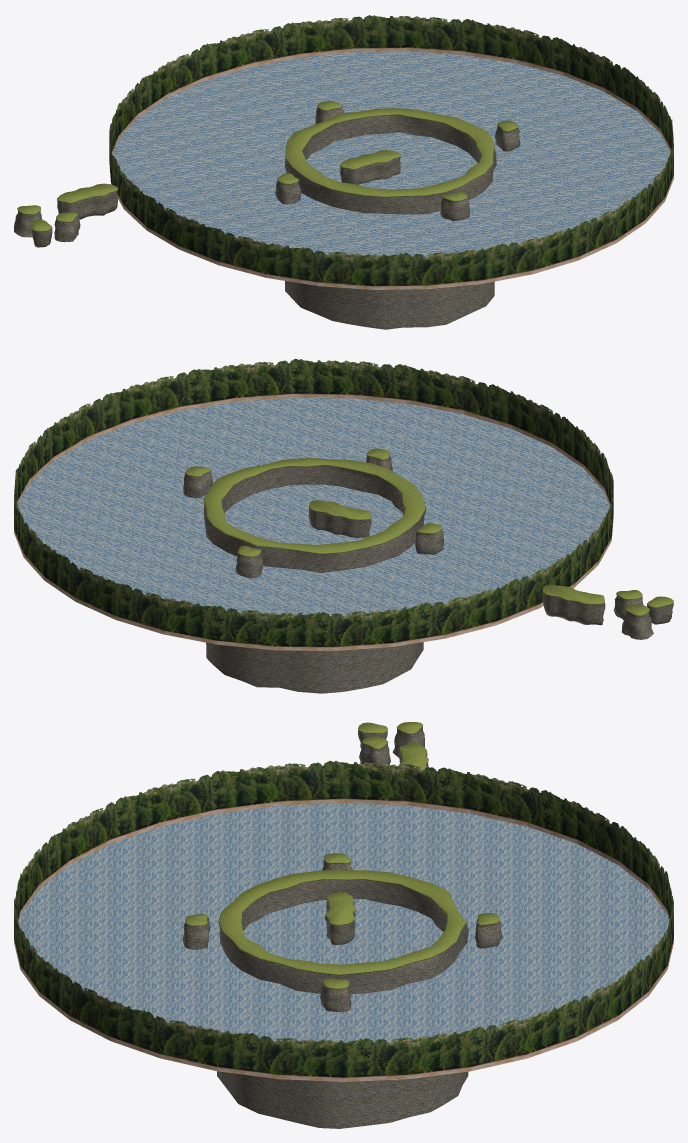
File: wald_4.fbx
3 renders of one model, top to bottom at view 1: azimuth 30°, elevation 25°; view 2: azimuth 150°, elevation 25°; view 3: azimuth 270°, elevation 25°, orthographic. The views are drawn at different scales.
Parts seen in each view (by area): view 1: Water, baumwald, Circle, Grassblock4.001, Grassblock4, Grassblock3.003, Grassblock3, Grassblock3.001, Grassblock3.002, Grassblock1, GrassBlock2; view 2: Water, baumwald, Circle, Grassblock4, Grassblock4.001, Grassblock1, Grassblock3.002, Grassblock3.001, Grassblock3.004, GrassBlock2, Grassblock3; view 3: Water, baumwald, Circle, Grassblock4.001, Grassblock3.002, Grassblock3.003, Grassblock3.004, Grassblock3, Grassblock1, Grassblock4.
Part boxes in pixels (<box>): Water: <box>112,51,670,257</box>; baumwald: <box>109,15,673,289</box>; Circle: <box>284,108,496,329</box>; Grassblock4.001: <box>340,150,400,184</box>; Grassblock4: <box>57,183,117,219</box>; Grassblock3.003: <box>440,191,469,221</box>; Grassblock3: <box>54,212,80,242</box>; Grassblock3.001: <box>275,173,301,204</box>; Grassblock3.002: <box>494,120,520,151</box>; Grassblock1: <box>14,205,42,237</box>; GrassBlock2: <box>31,220,52,247</box>; Water: <box>17,397,609,616</box>; baumwald: <box>14,358,613,651</box>; Circle: <box>203,457,426,693</box>; Grassblock4: <box>542,584,605,625</box>; Grassblock4.001: <box>308,500,371,537</box>; Grassblock1: <box>621,605,653,639</box>; Grassblock3.002: <box>183,466,213,498</box>; Grassblock3.001: <box>414,523,443,554</box>; Grassblock3.004: <box>235,545,263,578</box>; GrassBlock2: <box>646,596,673,624</box>; Grassblock3: <box>613,590,643,619</box>; Water: <box>19,803,668,1042</box>; baumwald: <box>14,760,673,1081</box>; Circle: <box>217,870,468,1128</box>; Grassblock4.001: <box>324,891,355,944</box>; Grassblock3.002: <box>320,978,351,1012</box>; Grassblock3.003: <box>182,914,210,949</box>; Grassblock3.004: <box>475,913,502,948</box>; Grassblock3: <box>359,736,390,765</box>; Grassblock1: <box>392,722,424,757</box>; Grassblock4: <box>398,742,428,770</box>.
Bounding box in the file's own units: 34521 × 8422 × 28502.
